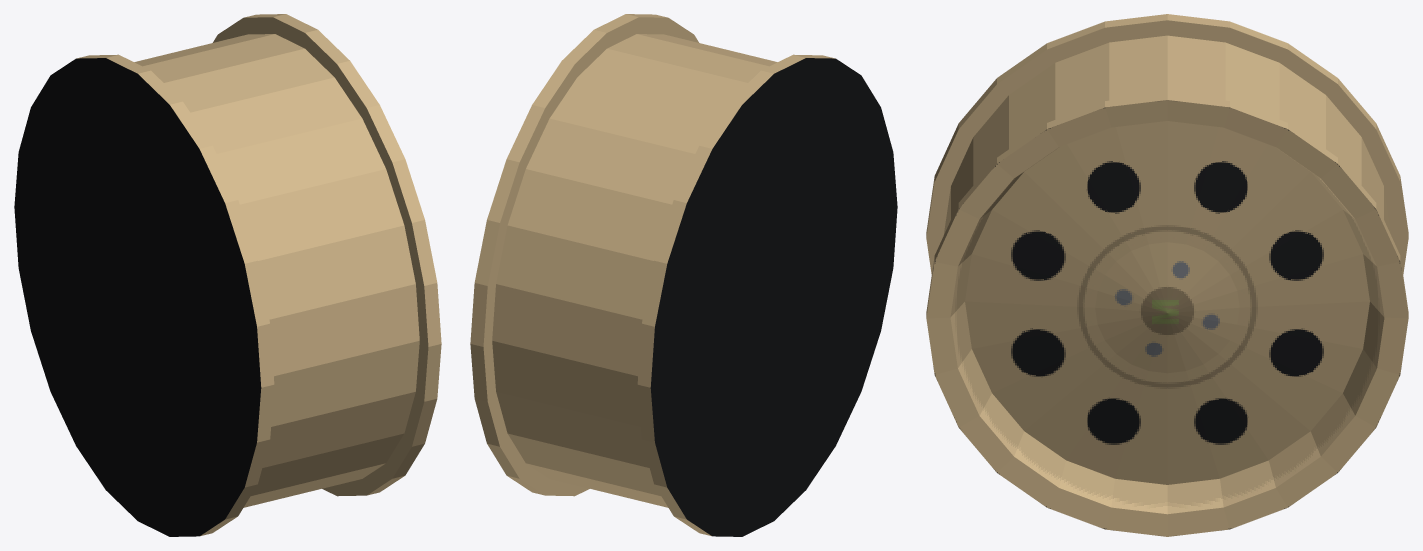
The model's file is mandacaru_sertao_16.glb.
The picture shows the model from 3 angles, left to right: view 1: azimuth 30°, elevation 25°; view 2: azimuth 150°, elevation 25°; view 3: azimuth 270°, elevation 25°; orthographic projection. The views are drawn at different scales.
Visible parts, largest first — view 1: mandacaru_sertao_16; view 2: mandacaru_sertao_16; view 3: mandacaru_sertao_16.
Boxes of the visible parts, box(x1,y1,x2,y2) form: mandacaru_sertao_16: box(14, 14, 441, 536); mandacaru_sertao_16: box(470, 14, 897, 536); mandacaru_sertao_16: box(926, 14, 1408, 536).
Bounding box in the file's own units: 0.192 × 0.4552 × 0.4552.
Materials: 1 (1 with a texture image).
